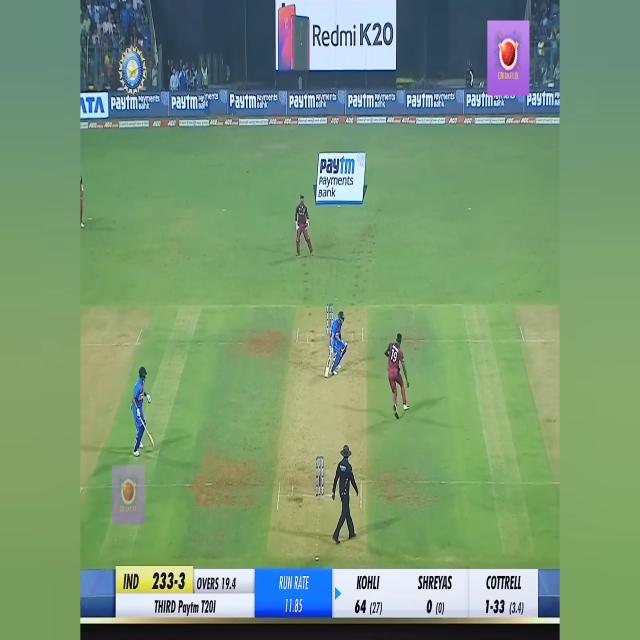fully_visible: (319, 148, 358, 178), (170, 90, 198, 116), (228, 90, 258, 113), (177, 595, 202, 622), (287, 91, 317, 112), (110, 93, 138, 114), (405, 92, 433, 111), (348, 91, 374, 111)
partially_visible: (466, 90, 493, 114), (527, 89, 554, 111)
